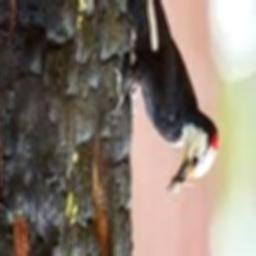Woodpecker: (111, 0, 216, 198)
